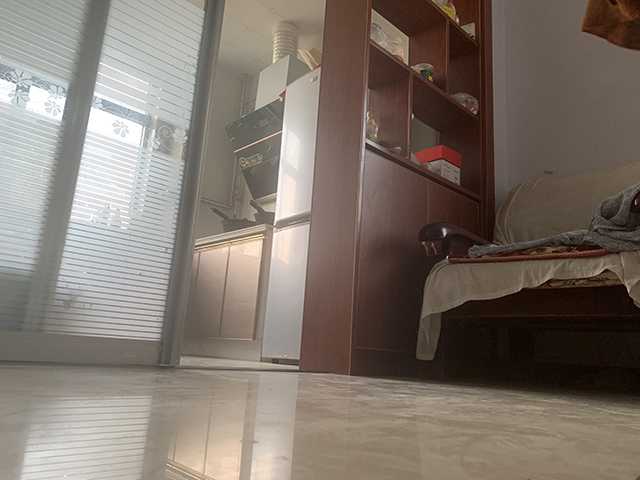cabinet: (305, 135, 496, 378), (183, 222, 273, 363)
sofa: (415, 159, 640, 377)
